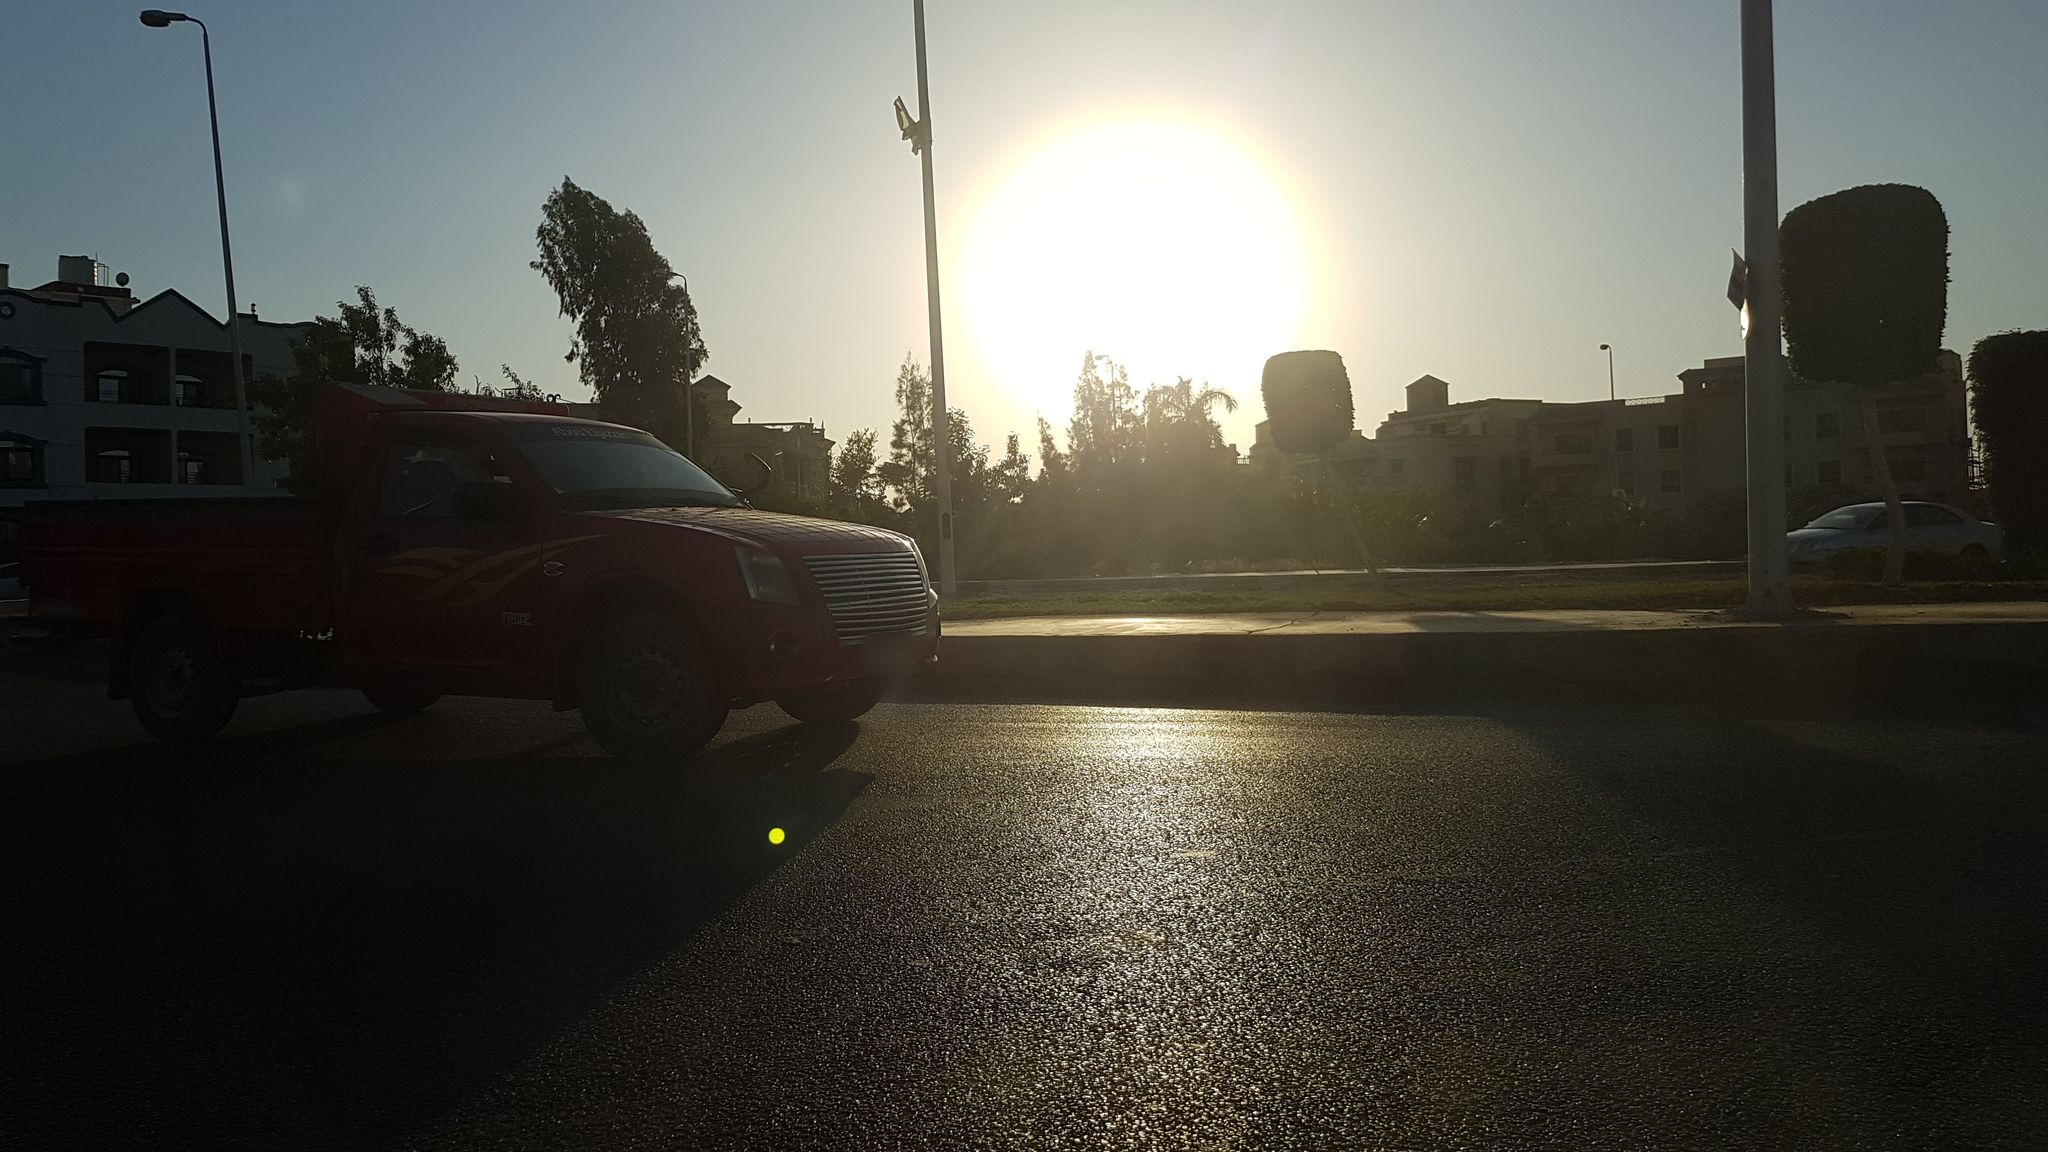car: (1786, 501, 2003, 561)
truck: (0, 378, 951, 758)
